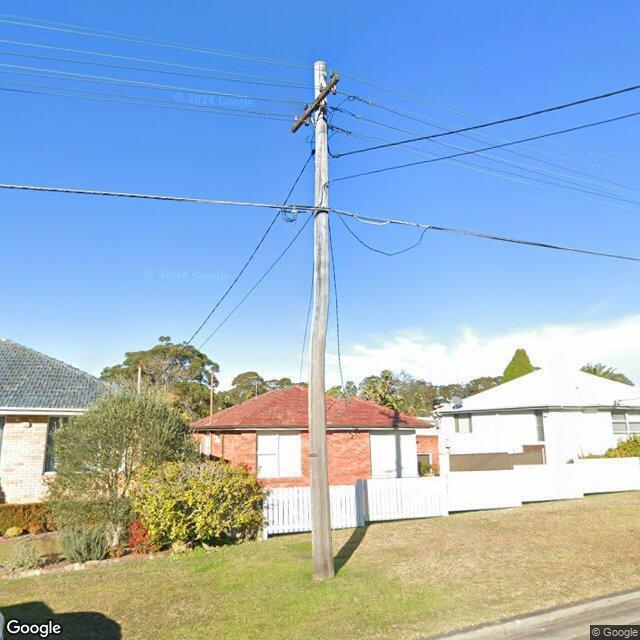crossarm: (290, 72, 340, 134)
timber-pole: (308, 60, 336, 580)
